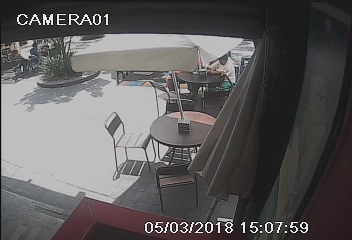libre: (109, 107, 229, 204)
ocupado: (156, 50, 247, 115)
